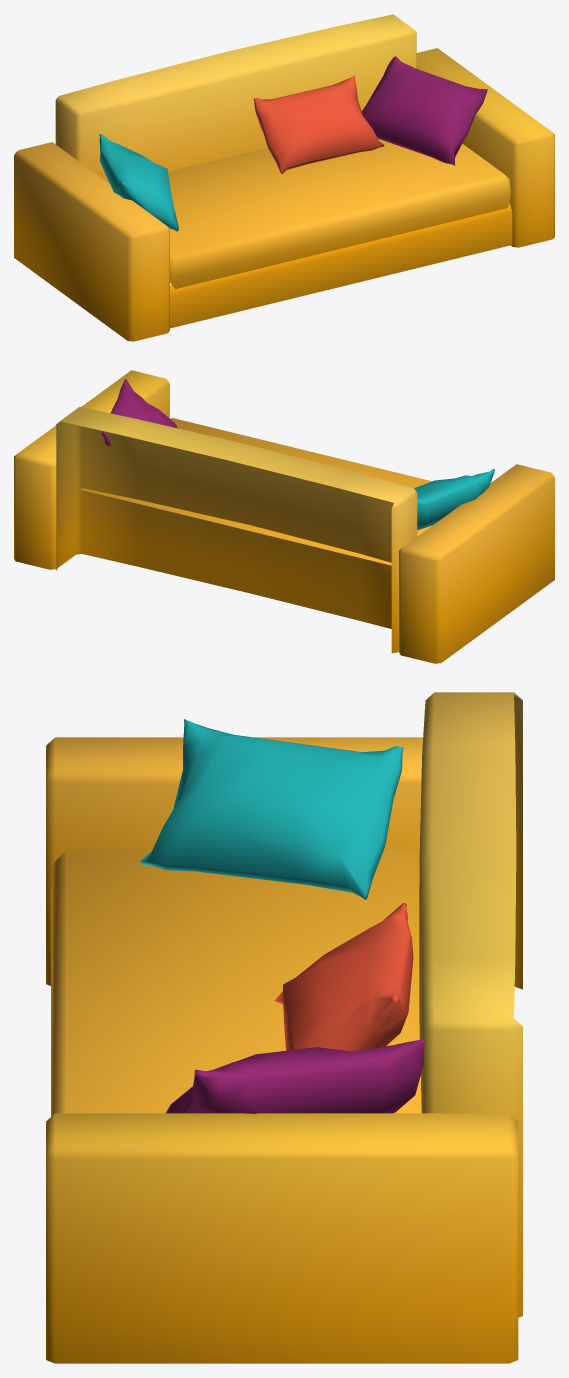
The model's file is bench.fbx.
3 renders of one model, top to bottom at view 1: azimuth 30°, elevation 25°; view 2: azimuth 150°, elevation 25°; view 3: azimuth 270°, elevation 25°, orthographic. The views are drawn at different scales.
Parts seen in each view (by area): view 1: bench; view 2: bench; view 3: bench.
Boxes of the visible parts, x1,y1,x2,y2 form: bench: (14, 14, 554, 341); bench: (14, 370, 554, 663); bench: (46, 692, 522, 1363).
Size of the model in its own units: 257 by 87.61 by 124.
